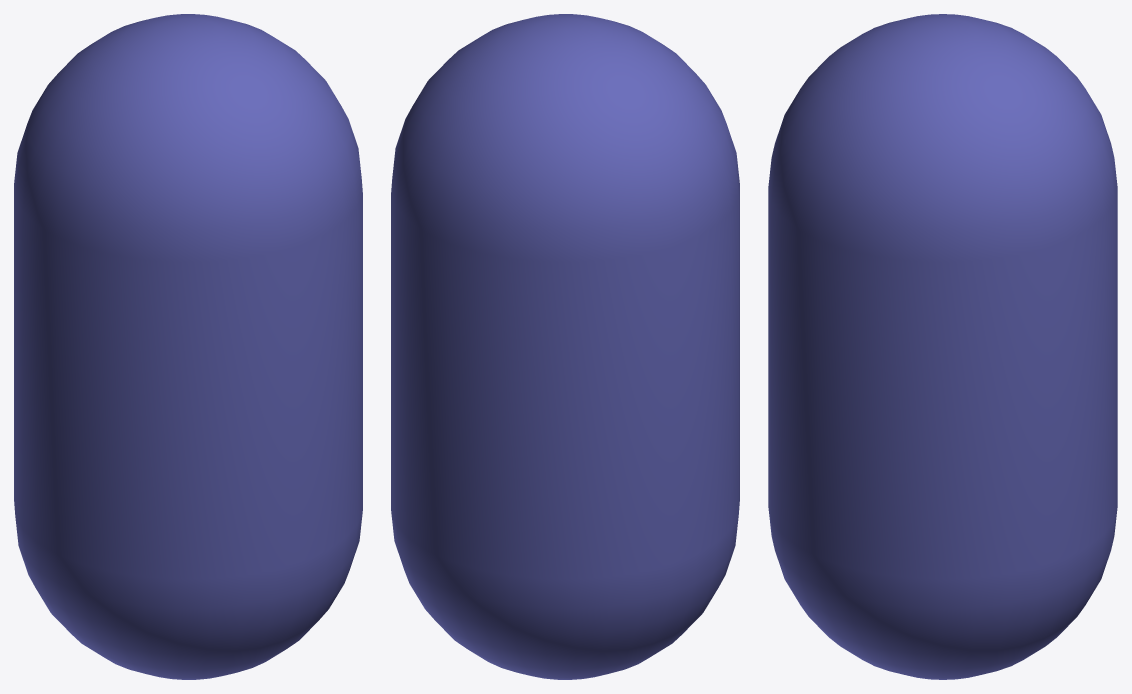
Rendered from AlphaModelTestCapsule.fbx.
3 renders of one model, left to right at view 1: azimuth 30°, elevation 25°; view 2: azimuth 150°, elevation 25°; view 3: azimuth 270°, elevation 25°, orthographic.
Visible parts, largest first — view 1: Sphere; view 2: Sphere; view 3: Sphere.
Part boxes in pixels (left/top/right/bottom): Sphere: left=14, top=14, right=362, bottom=679; Sphere: left=391, top=14, right=739, bottom=679; Sphere: left=768, top=14, right=1117, bottom=679.
Size of the model in its own units: 200 by 200 by 400.
Materials: 1 (1 with a texture image).
